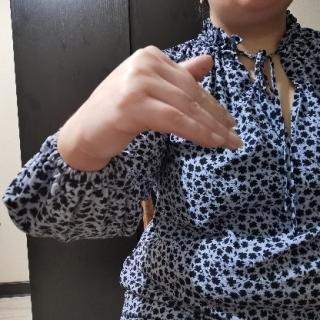KHAA: (62, 42, 249, 167)
